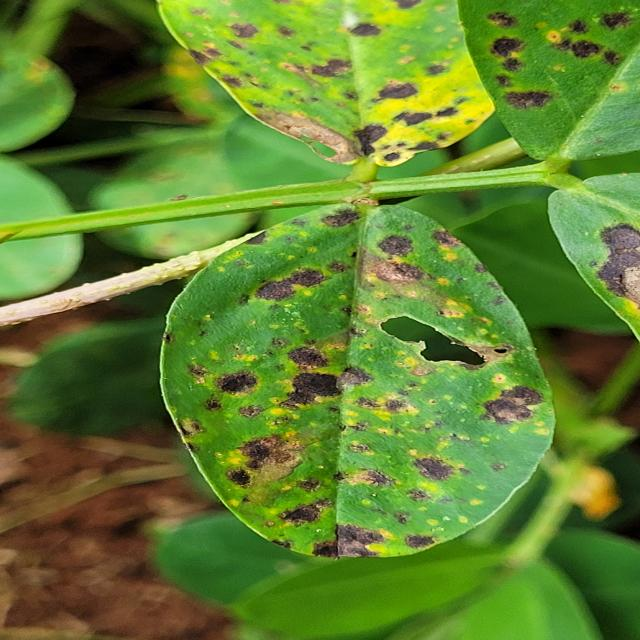Ground nut_tikka leaf spot: (159, 194, 551, 565)
